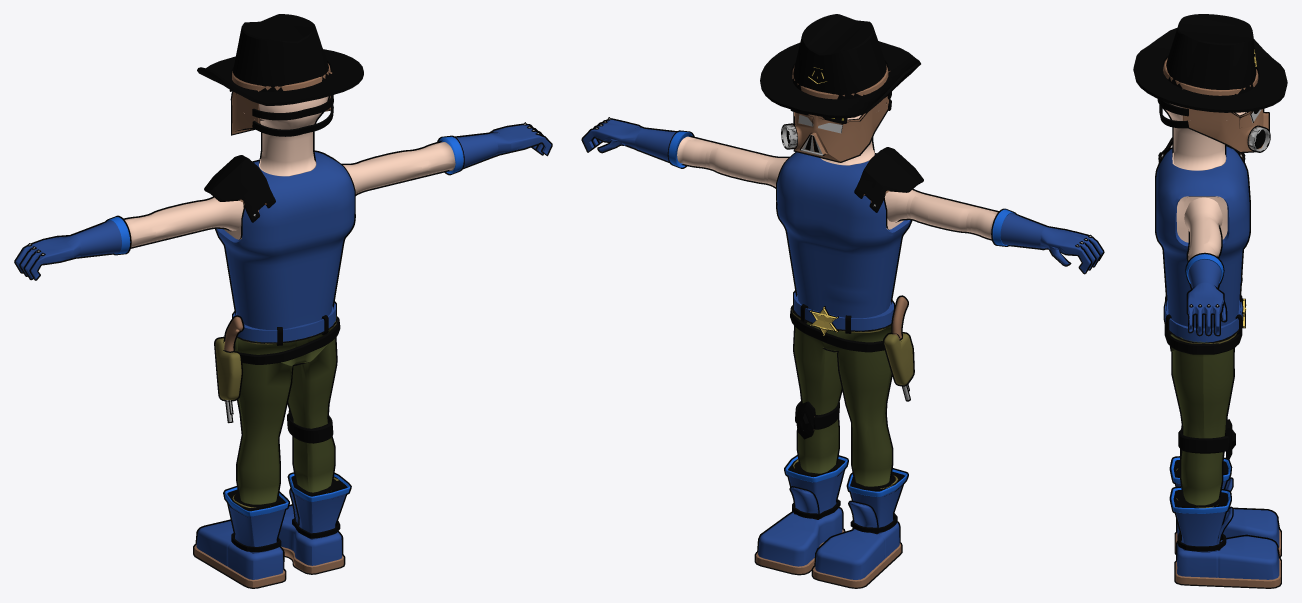
File: Character2.fbx
3 views of the same model, side by side, from view 1: azimuth 30°, elevation 25°; view 2: azimuth 150°, elevation 25°; view 3: azimuth 270°, elevation 25° (orthographic). The views are drawn at different scales.
Visible parts, largest first — view 1: Plane.001; view 2: Plane.001; view 3: Plane.001.
Part boxes in pixels (x1=…): Plane.001: x1=14, y1=14, x2=552, y2=588; Plane.001: x1=581, y1=14, x2=1104, y2=588; Plane.001: x1=1133, y1=14, x2=1287, y2=588.
Size of the model in its own units: 1226 by 1205 by 314.
